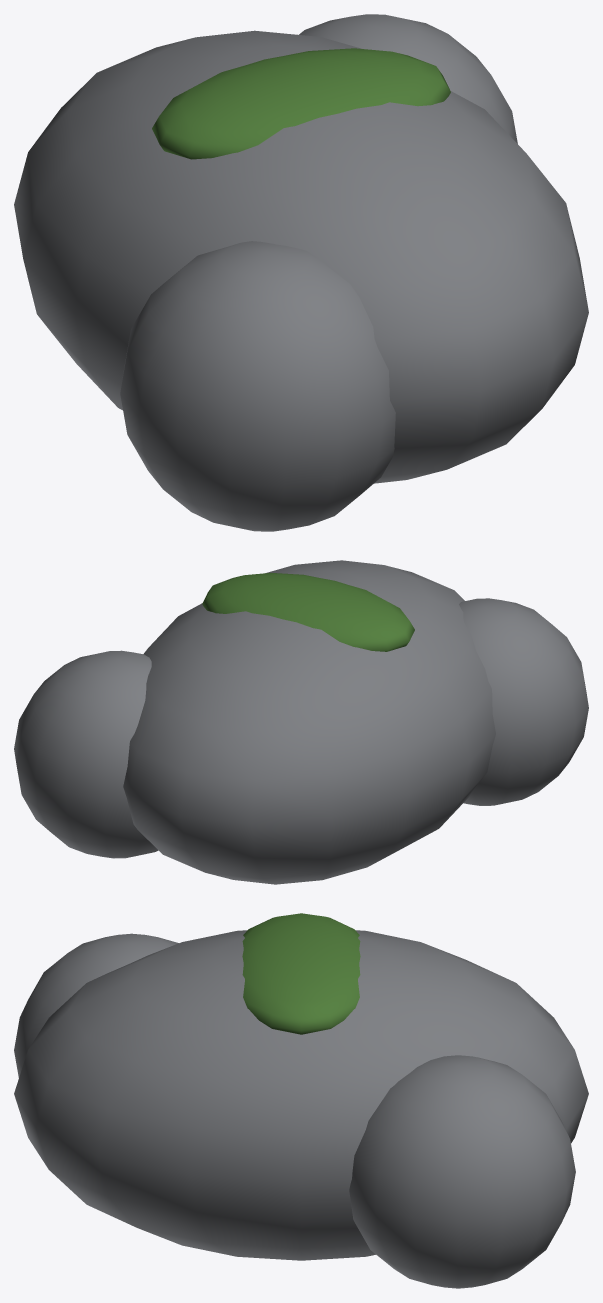
File: rock_b.glb
3 views of the same model, one above another, from view 1: azimuth 30°, elevation 25°; view 2: azimuth 150°, elevation 25°; view 3: azimuth 270°, elevation 25° (orthographic). The views are drawn at different scales.
Visible parts, largest first — view 1: Sphere, Sphere.003; view 2: Sphere, Sphere.003; view 3: Sphere, Sphere.003.
Boxes of the visible parts, bbox=[...] form: Sphere: bbox=[14, 14, 588, 531]; Sphere.003: bbox=[152, 48, 450, 159]; Sphere: bbox=[14, 560, 588, 884]; Sphere.003: bbox=[202, 573, 414, 651]; Sphere: bbox=[14, 930, 588, 1288]; Sphere.003: bbox=[242, 913, 360, 1034].
Size of the model in its own units: 2 by 1.12 by 2.2.
